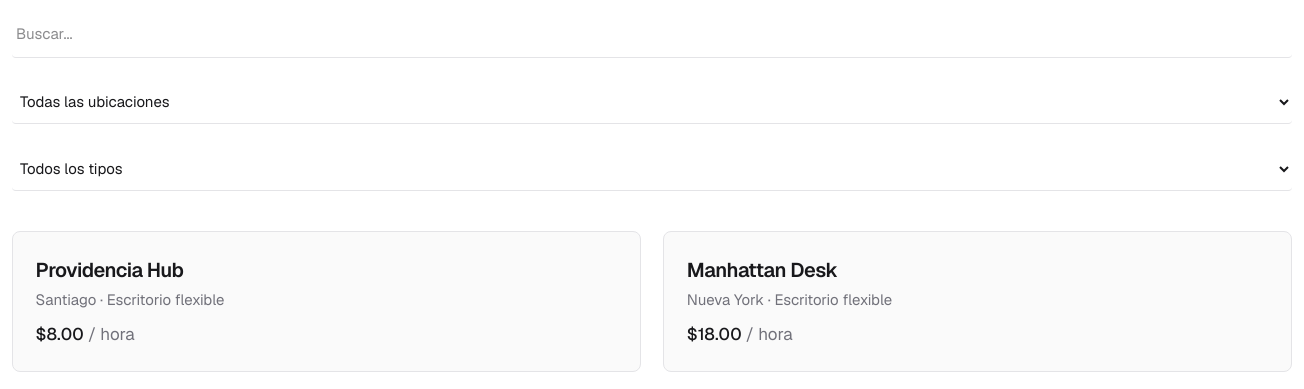
Test: CatalogoEspacios › filtra resultados al escribir en la búsqueda
Type "manhattan" into the field with placeholder "Buscar..." at (652, 35), box [12,12,1292,58]
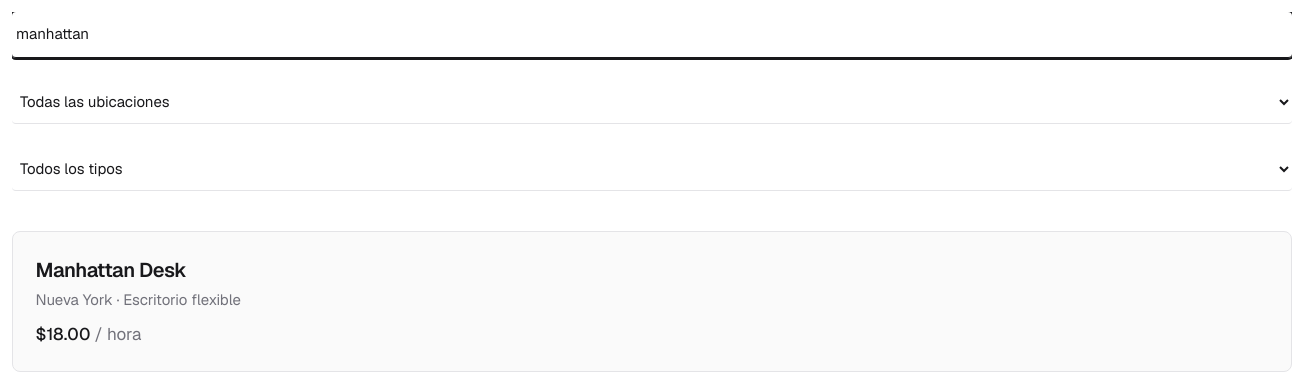
Expected: the heading "Manhattan Desk" is shown, [36,257,186,283]
Result: the link "Providencia Hub" is gone
